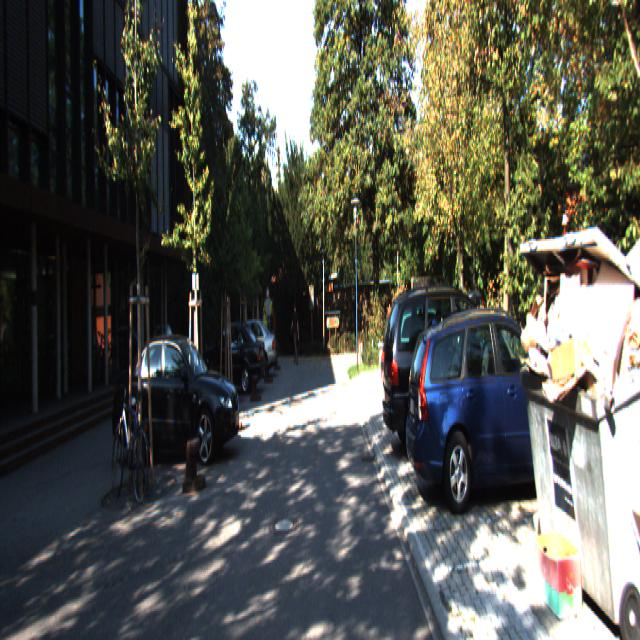Car: (403, 304, 600, 515), (380, 283, 522, 462), (110, 334, 241, 468), (194, 317, 266, 396), (219, 317, 275, 378)
